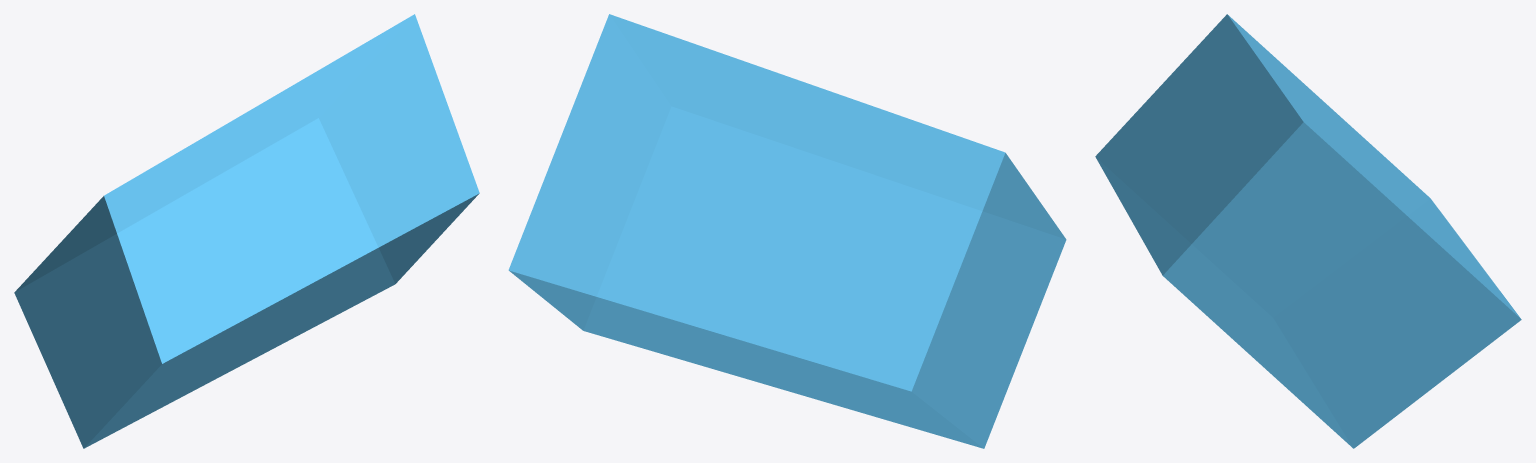
File: Event_421364160_HErechit_46.fbx
3 renders of one model, left to right at view 1: azimuth 30°, elevation 25°; view 2: azimuth 150°, elevation 25°; view 3: azimuth 270°, elevation 25°, orthographic. The views are drawn at different scales.
Parts seen in each view (by area): view 1: Model; view 2: Model; view 3: Model.
Boxes of the visible parts, left/top/right/bottom form: Model: left=14, top=14, right=479, bottom=448; Model: left=508, top=14, right=1066, bottom=448; Model: left=1095, top=14, right=1521, bottom=448.
Bounding box in the file's own units: 0.8049 × 0.7551 × 0.7551.
